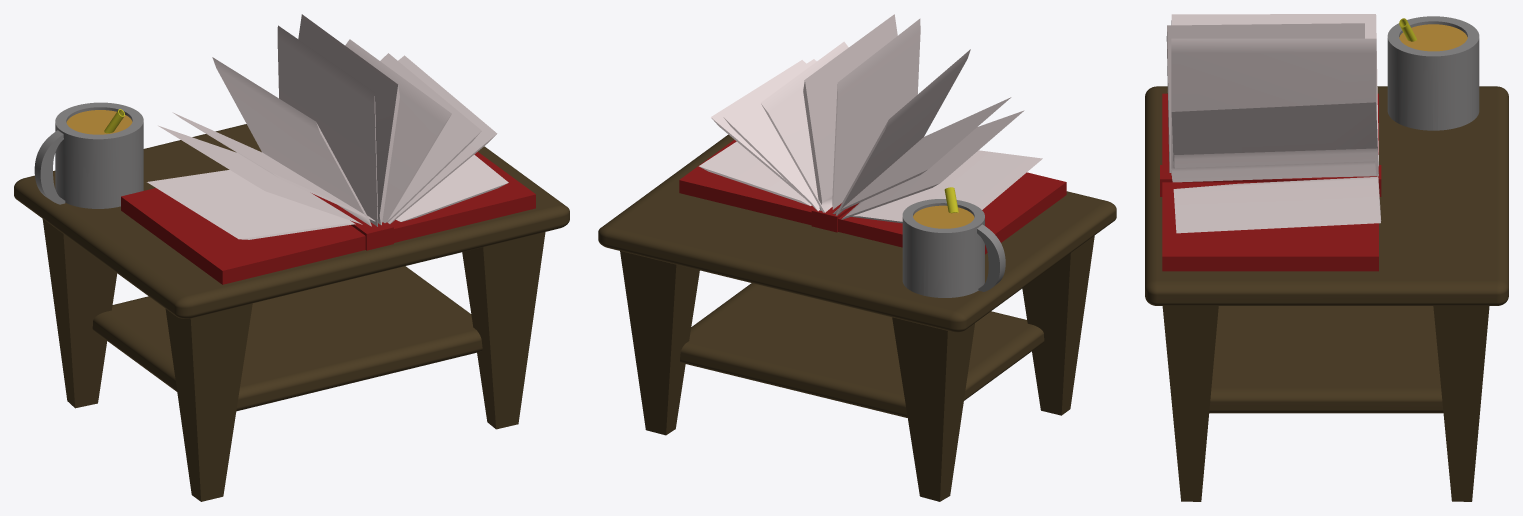
The model's file is table.glb.
3 renders of one model, left to right at view 1: azimuth 30°, elevation 25°; view 2: azimuth 150°, elevation 25°; view 3: azimuth 270°, elevation 25°, orthographic. The views are drawn at different scales.
Parts seen in each view (by area): view 1: Object_7, Object_5, Object_4, Object_2, Object_3; view 2: Object_7, Object_5, Object_4, Object_2, Object_3; view 3: Object_7, Object_5, Object_4, Object_2, Object_3.
Boxes of the visible parts, x1,y1,x2,y2 form: Object_7: (14,124,569,501); Object_5: (147,14,508,239); Object_4: (121,152,535,284); Object_2: (34,102,143,208); Object_3: (66,110,132,134); Object_7: (598,134,1116,501); Object_5: (699,14,1042,223); Object_4: (679,140,1066,254); Object_2: (902,199,1005,297); Object_3: (913,205,974,228); Object_7: (1145,86,1508,501); Object_5: (1166,14,1381,233); Object_4: (1160,93,1381,271); Object_2: (1387,16,1479,130); Object_3: (1399,24,1467,51).
Bounding box in the file's own units: 151 × 134 × 111.
